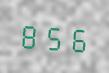eight: (18, 17, 40, 52)
five: (42, 19, 64, 53)
six: (65, 20, 87, 55)
